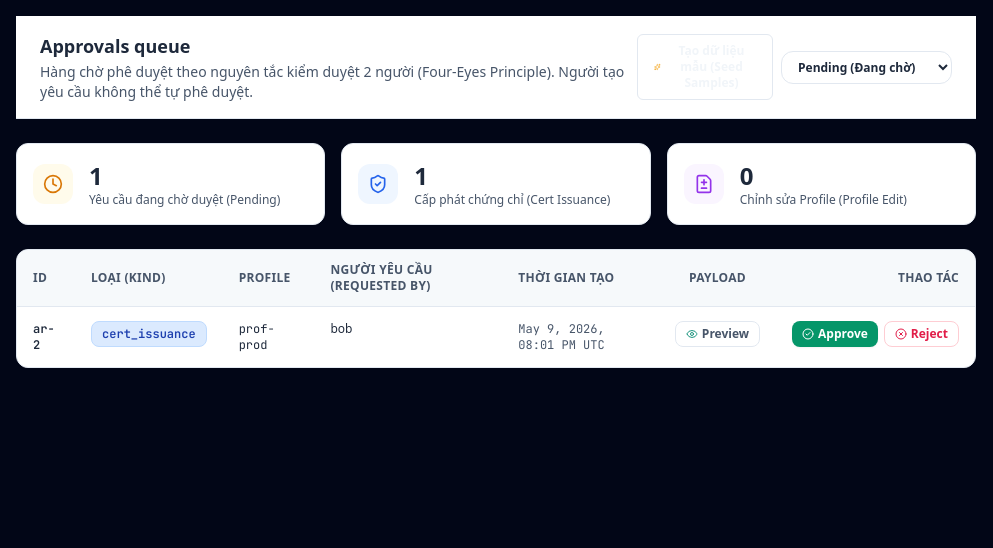
ApprovalsPage › A-5 CertIssuance renders definition list with SANs + profile + key algo
Click the button with test id "approvals-preview-toggle-ar-2" at (717, 334), box [675, 321, 760, 347]
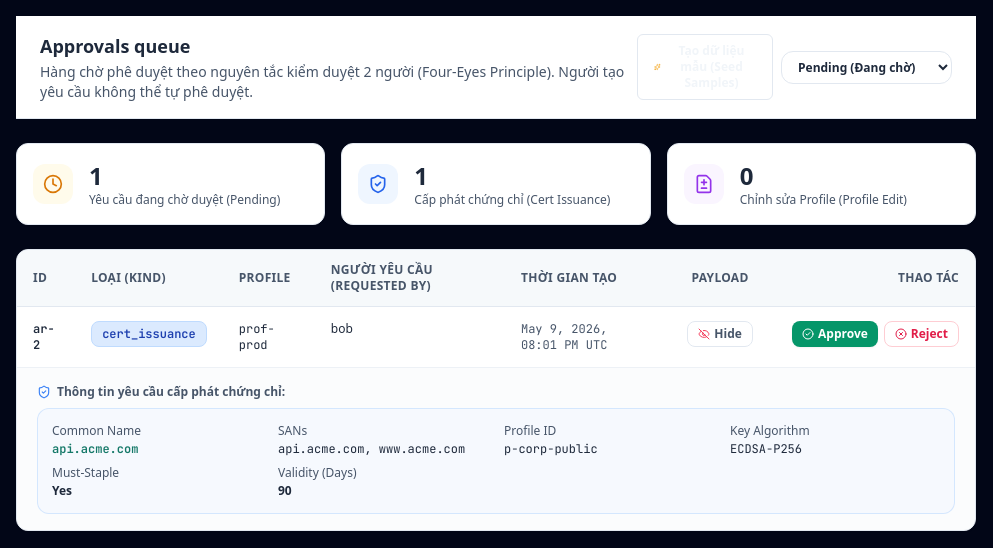
Expected: the element with test id "approval-cert-issuance-preview" shows "api.acme.com", [52, 441, 138, 457]
Expected: the element with test id "approval-cert-issuance-preview" shows "www.acme.com", [278, 441, 465, 457]
Expected: the element with test id "approval-cert-issuance-preview" shows "p-corp-public", [504, 441, 598, 457]
